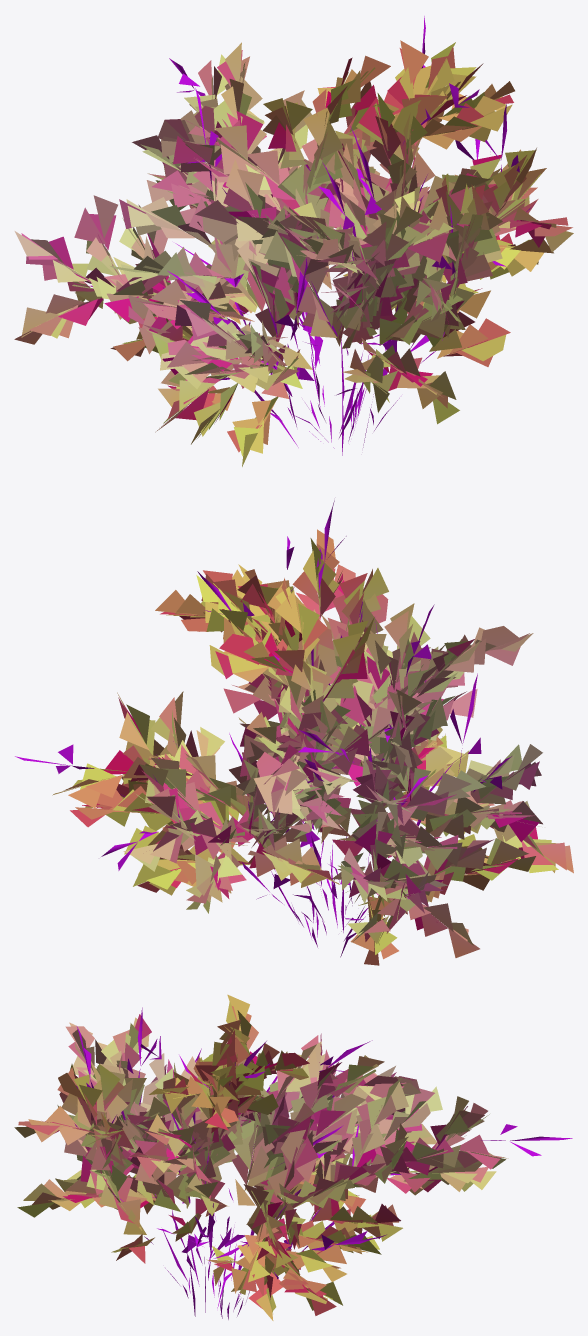
Rendered from desert_bush_a_LODs.glb.
3 renders of one model, top to bottom at view 1: azimuth 30°, elevation 25°; view 2: azimuth 150°, elevation 25°; view 3: azimuth 270°, elevation 25°, orthographic. The views are drawn at different scales.
Visible parts, largest first — view 1: desert_bush_a_LOD0; view 2: desert_bush_a_LOD0; view 3: desert_bush_a_LOD0.
Part boxes in pixels (box(x1,y1,x2,y2)): desert_bush_a_LOD0: box(14, 16, 573, 466); desert_bush_a_LOD0: box(15, 500, 573, 965); desert_bush_a_LOD0: box(14, 994, 572, 1320).
Size of what is drawn, in the model's own units: 1.41 by 1.11 by 1.72.
